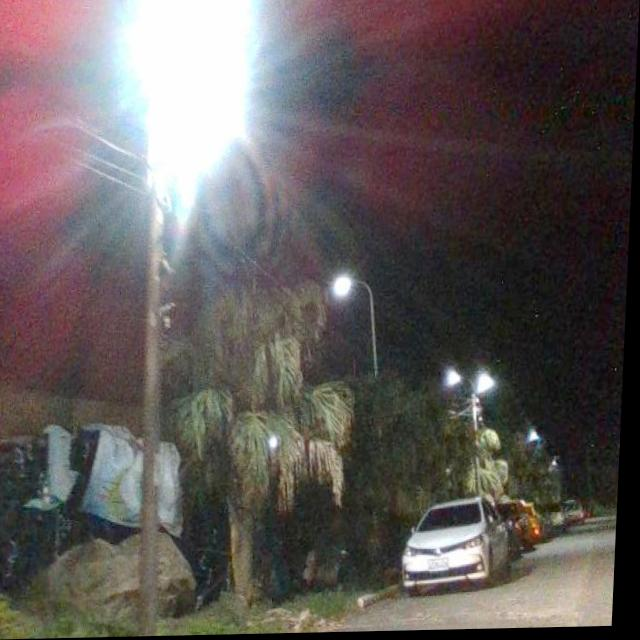pollute: (0, 416, 212, 636)
